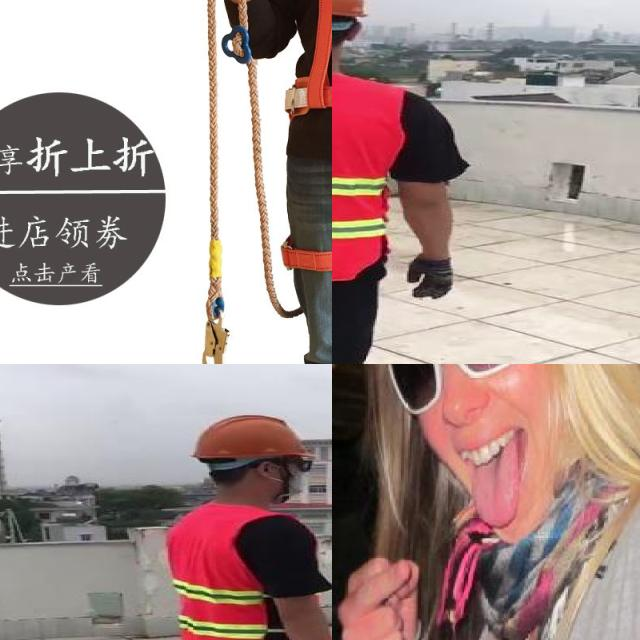face_nomask: (378, 364, 564, 524)
glasses: (382, 364, 539, 417)
hand_glove: (409, 256, 455, 299)
hand_noglove: (336, 547, 429, 640)
head_helmet: (188, 414, 306, 459)
person: (332, 0, 478, 364), (137, 410, 332, 640)
vest: (163, 500, 282, 640), (332, 70, 399, 282)
